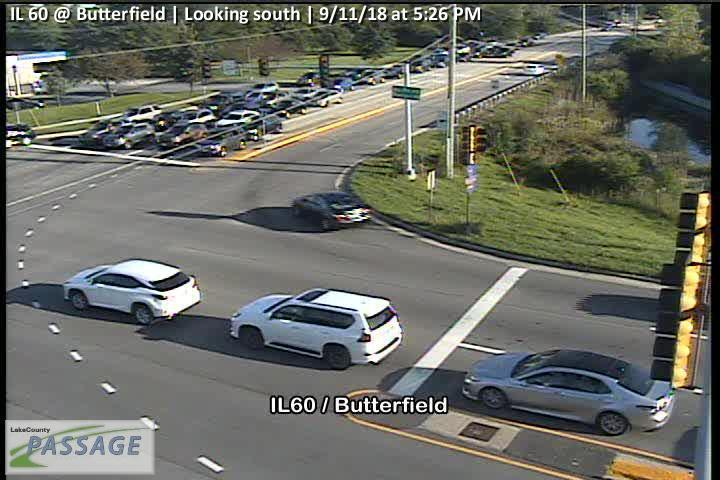SUV: (230, 289, 403, 370), (193, 125, 247, 156), (101, 122, 154, 150), (156, 122, 207, 148)
Sedan: (457, 351, 678, 436), (62, 255, 202, 324), (293, 192, 372, 229), (215, 109, 260, 135), (78, 123, 124, 148), (242, 115, 282, 141), (122, 102, 162, 125), (177, 108, 212, 129), (271, 100, 308, 119)
